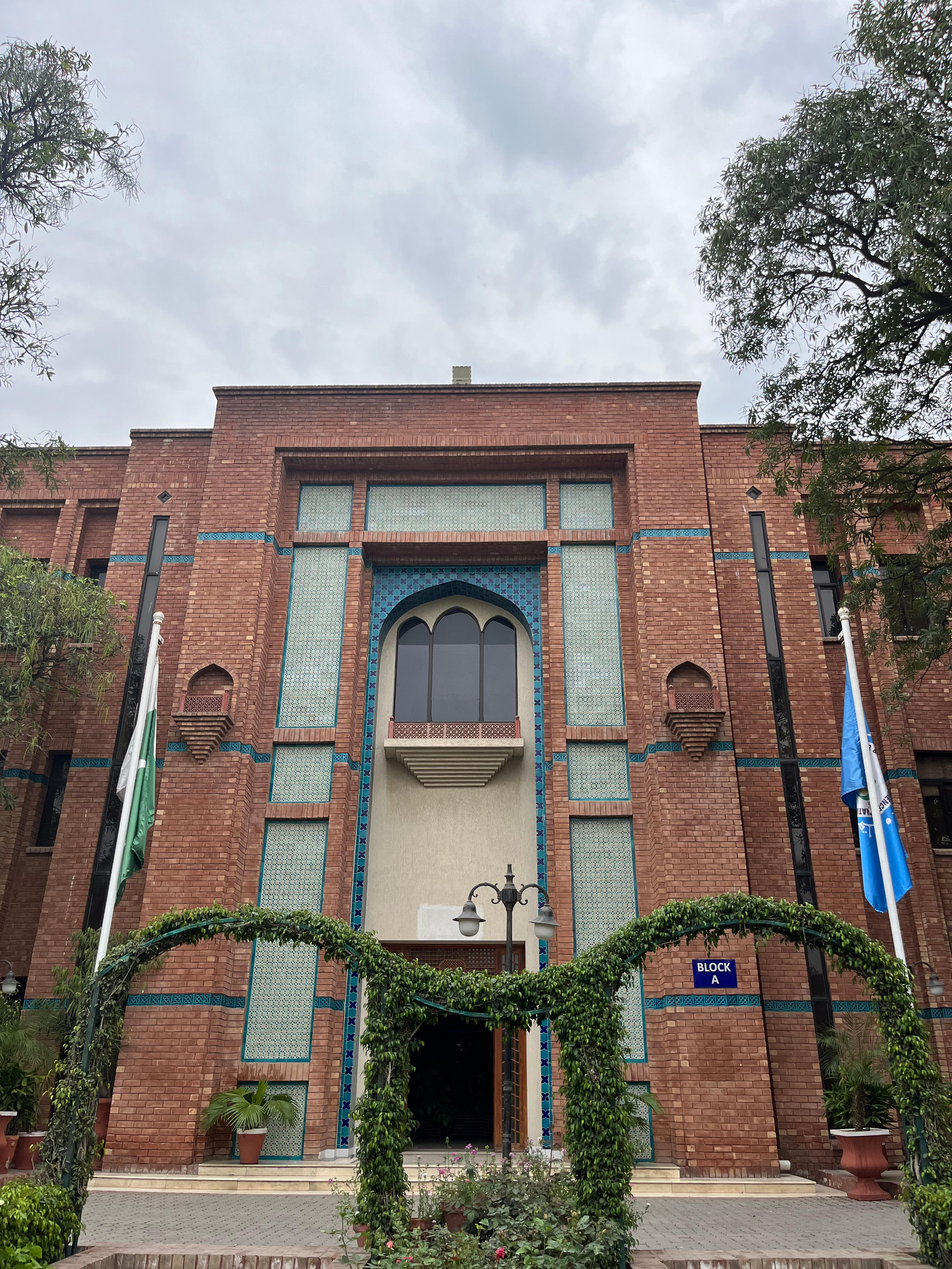Block A: (3, 354, 952, 1194)
